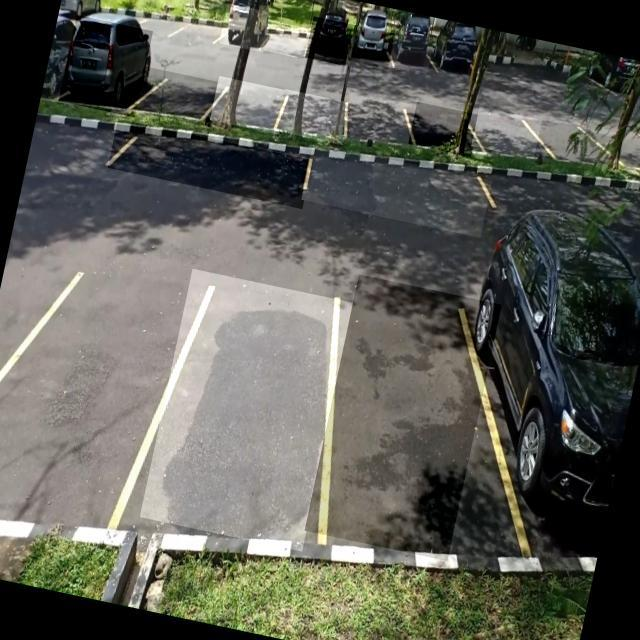empty: (139, 268, 354, 551), (304, 274, 502, 561), (0, 254, 188, 537), (300, 142, 492, 238), (107, 119, 312, 208), (136, 66, 220, 127), (209, 76, 288, 134), (275, 89, 351, 144), (342, 92, 416, 148), (408, 101, 480, 157), (471, 106, 542, 158), (260, 20, 312, 60), (175, 12, 222, 48)
occupied: (457, 279, 640, 559), (58, 15, 152, 117), (218, 3, 270, 52), (304, 16, 354, 65), (346, 24, 395, 68), (388, 29, 434, 74)
